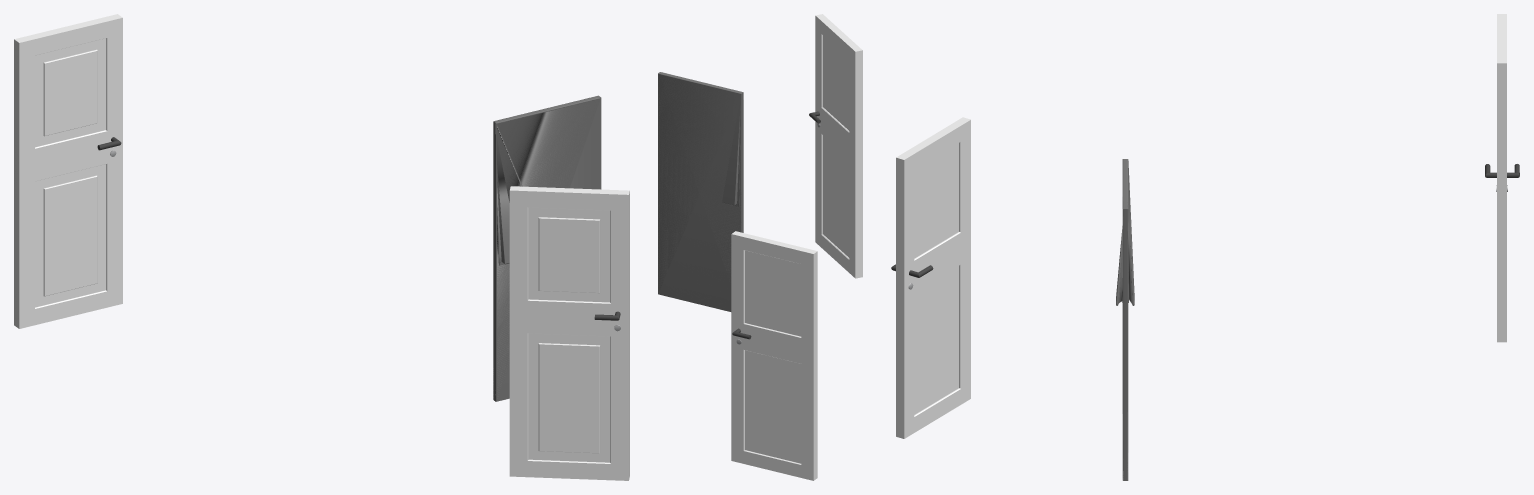
Rendered from door.FBX.
The picture shows the model from 3 angles, left to right: view 1: azimuth 30°, elevation 25°; view 2: azimuth 150°, elevation 25°; view 3: azimuth 270°, elevation 25°; orthographic projection. The views are drawn at different scales.
Visible parts, largest first — view 1: door, door003, door02; view 2: door003, door02, door; view 3: door, door003, door02.
Boxes of the visible parts, left/top/right/bottom form: door: left=509, top=186, right=629, bottom=480; door003: left=14, top=14, right=122, bottom=328; door02: left=493, top=95, right=601, bottom=401; door003: left=731, top=231, right=817, bottom=480; door02: left=658, top=72, right=743, bottom=311; door: left=809, top=14, right=862, bottom=278; door: left=891, top=117, right=970, bottom=438; door003: left=1485, top=14, right=1519, bottom=342; door02: left=1116, top=159, right=1134, bottom=480.
Bounding box in the file's own units: 3084 × 2176 × 4409.
